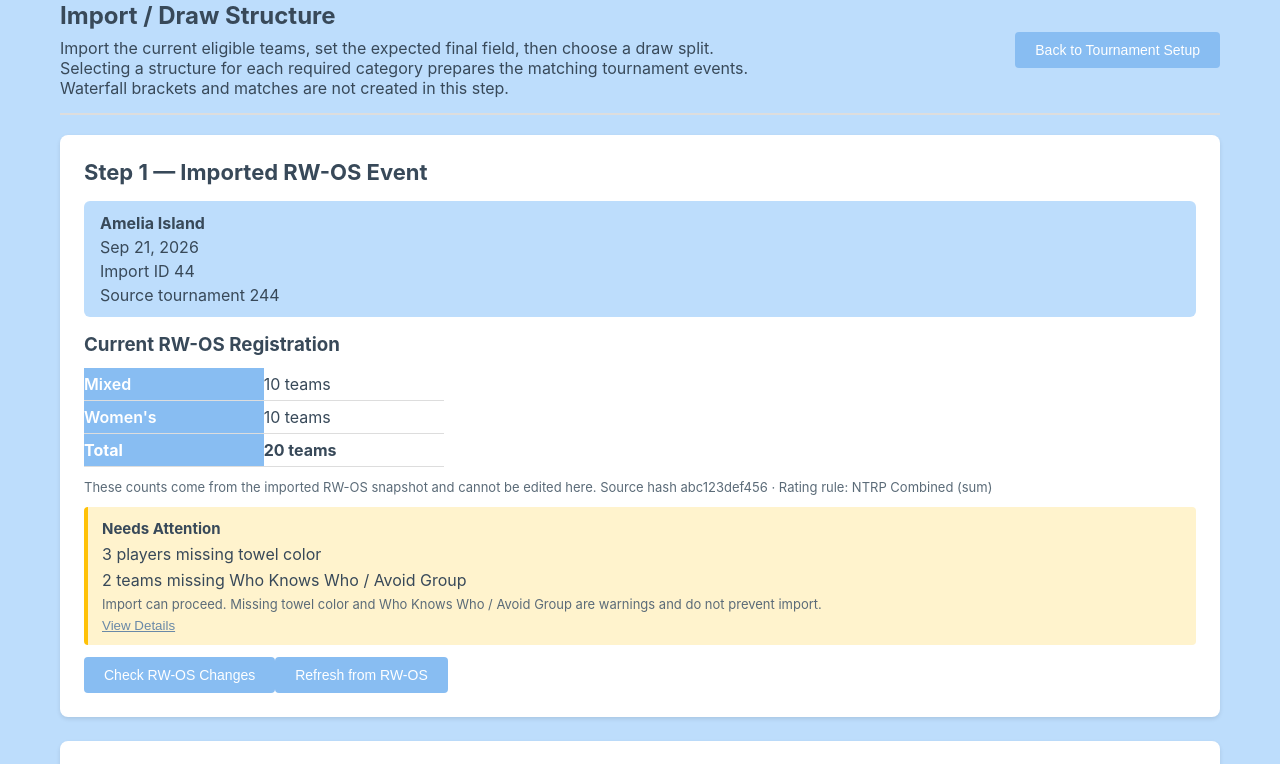
Test: CreateTournamentFromRwOs Step 3 workflow › aggregates repeated RW-OS warnings and identifies affected records
The image size is (1280, 764).
Expected: the text "3 players missing towel color" is shown, [102, 544, 321, 564]
Expected: the text "2 teams missing Who Knows Who / Avoid Group" is shown, [102, 570, 467, 590]
Click the button "View Details": (139, 626) [102, 618, 175, 633]
(page scrolled)
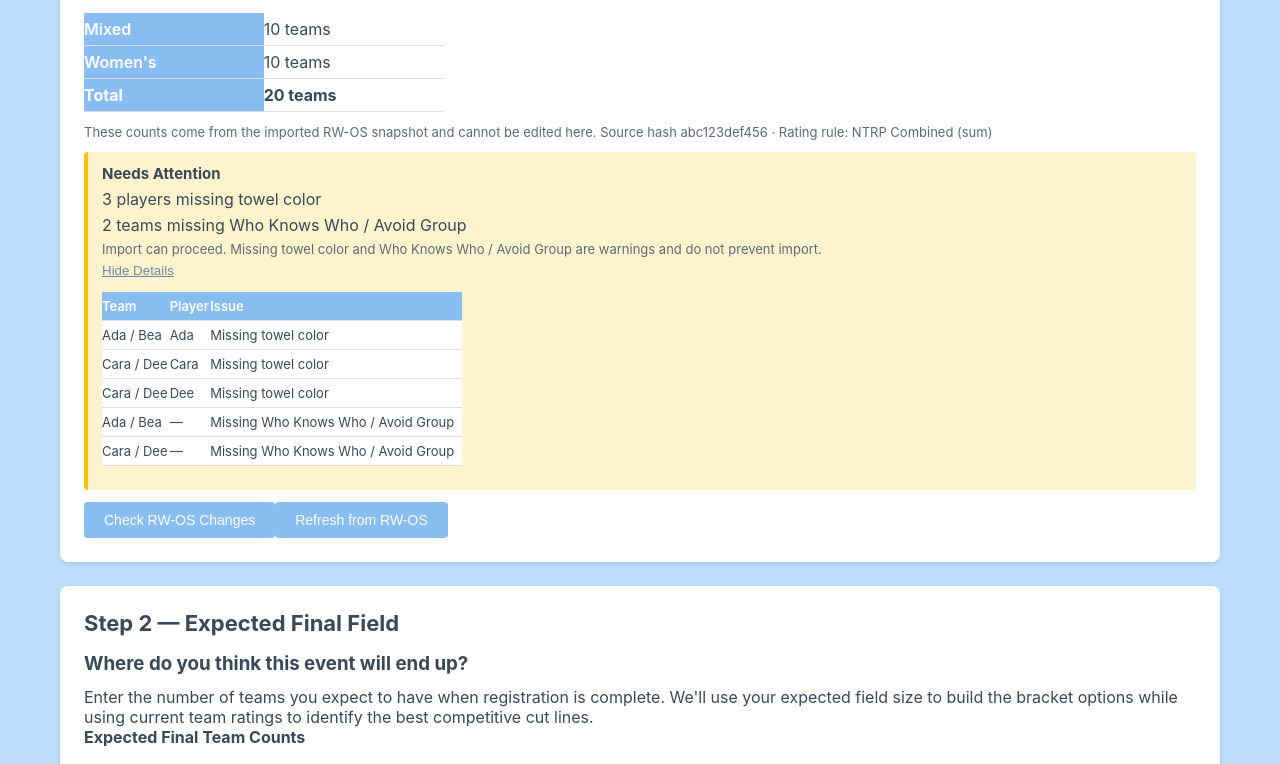
Expected: the element with test id "import-readiness-details" shows "Ada / Bea", [102, 327, 162, 343]
Expected: the element with test id "import-readiness-details" shows "Missing towel color", [210, 327, 329, 343]
